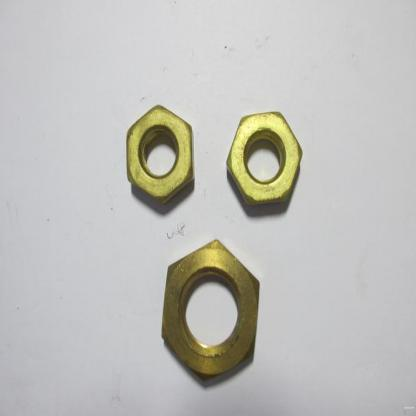FOD: (159, 238, 262, 387), (223, 108, 303, 212), (123, 103, 196, 209)
